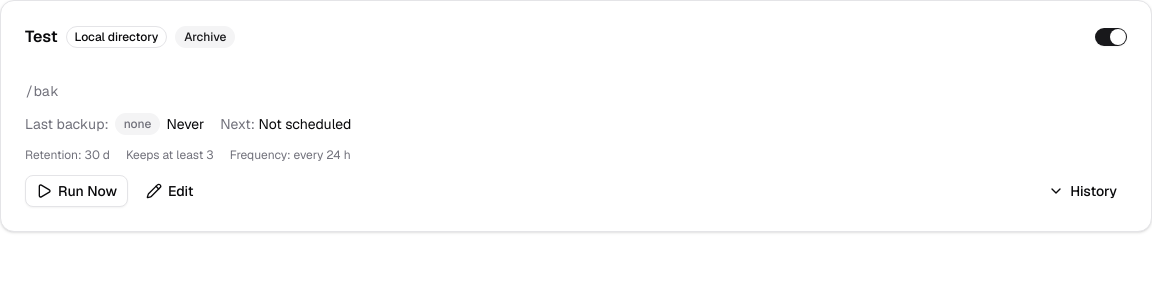
BackupTargetCard › expand shows History section
Click the button "History": (1083, 191) [1038,175,1127,207]
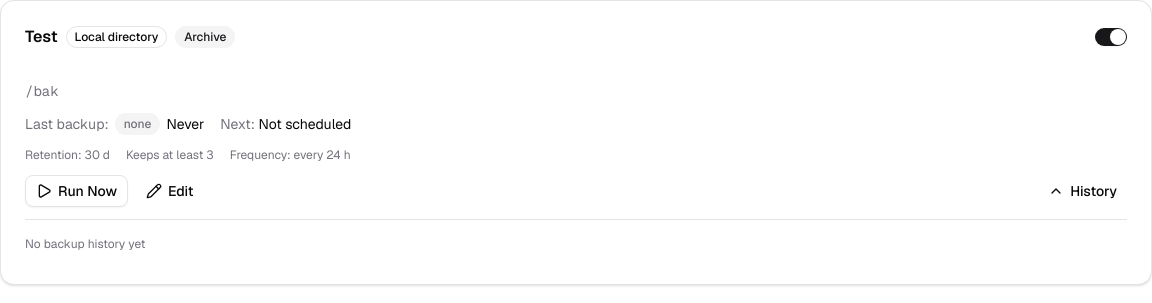
Expected: the text "No backup history yet" is shown, [25,236,146,252]
